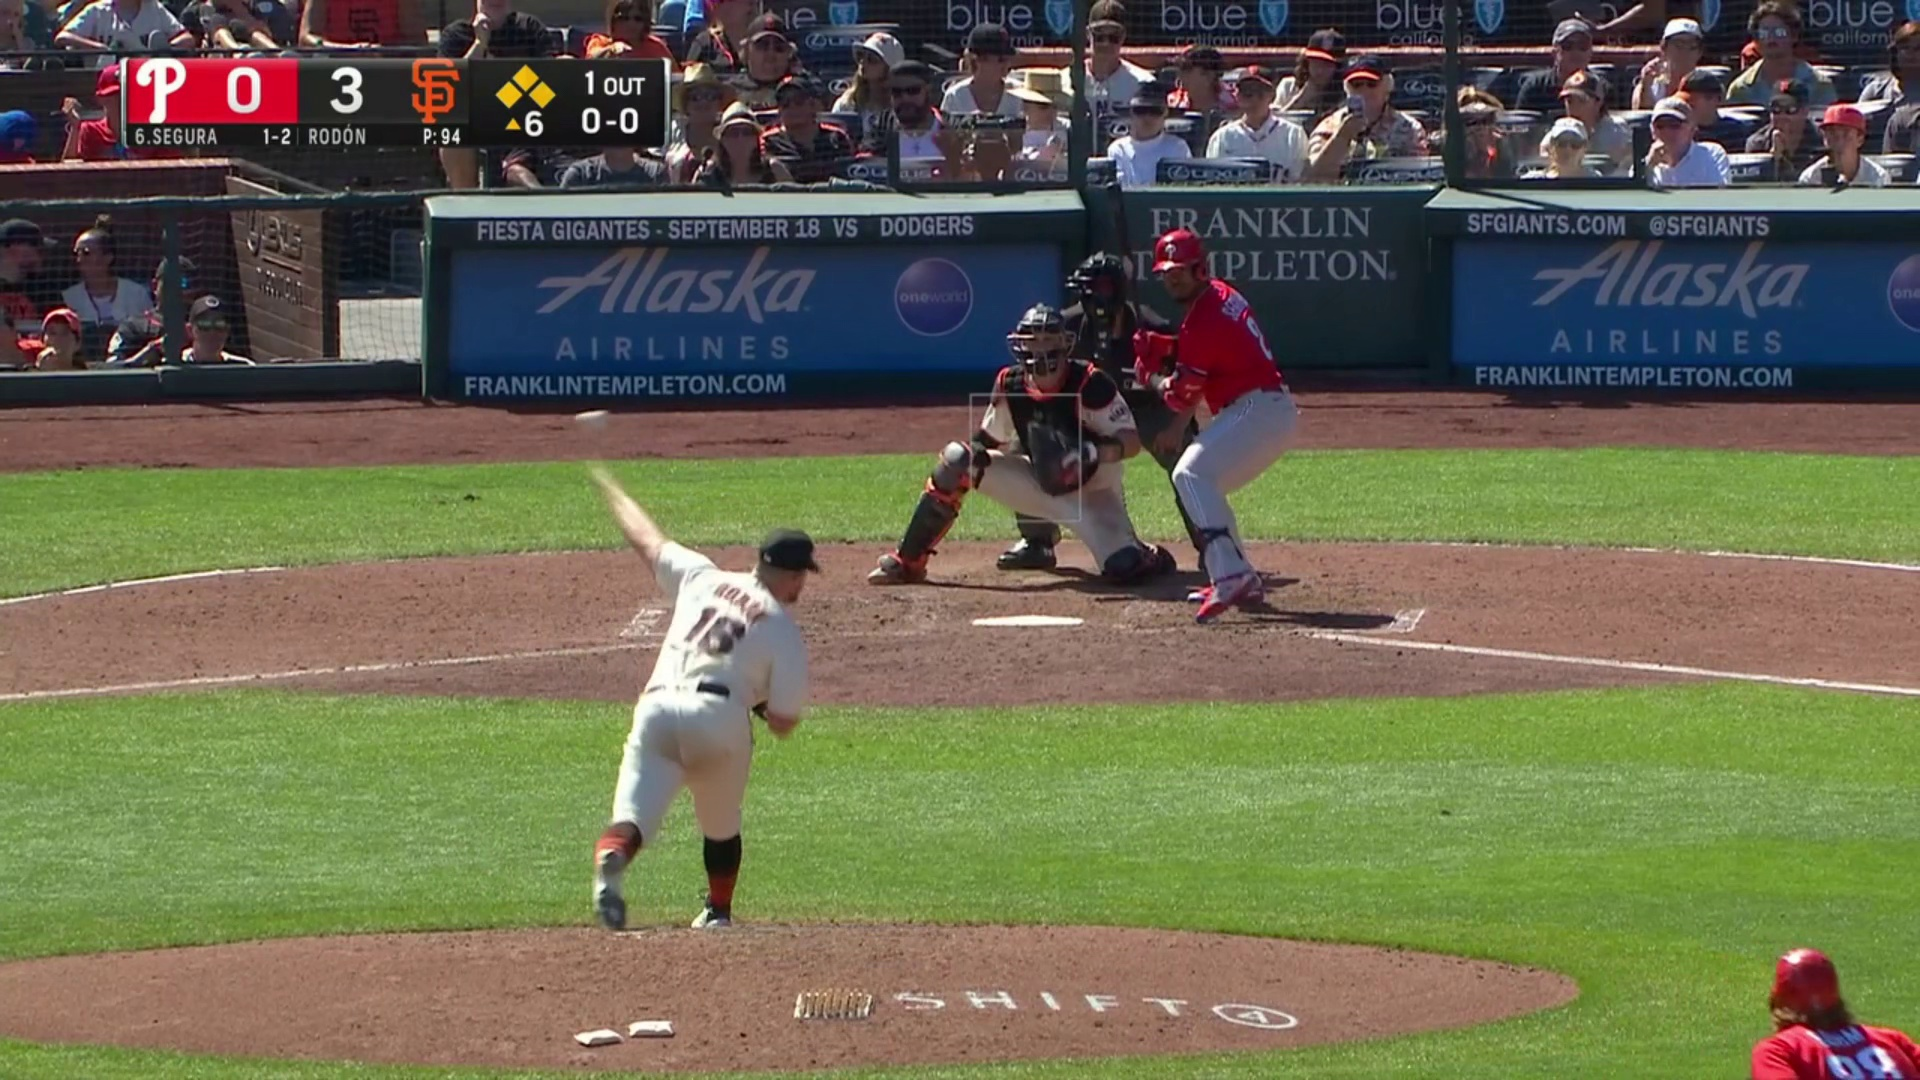baseball: (574, 407, 608, 430)
